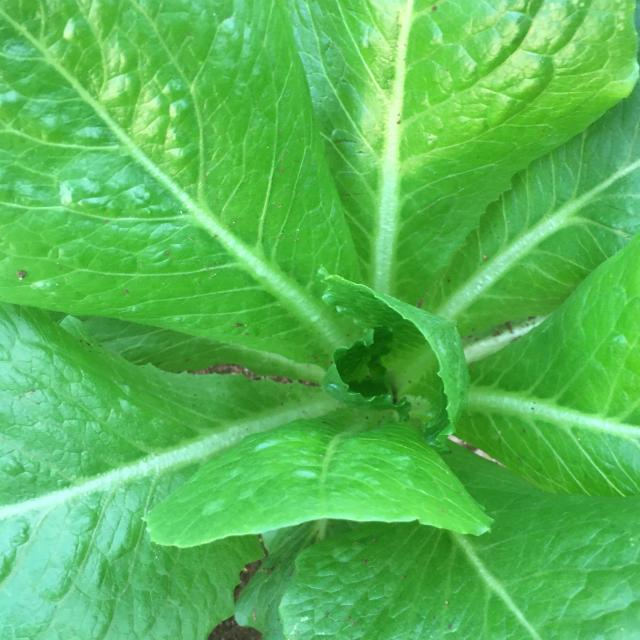Healthy Lettuce: (141, 416, 495, 550)
